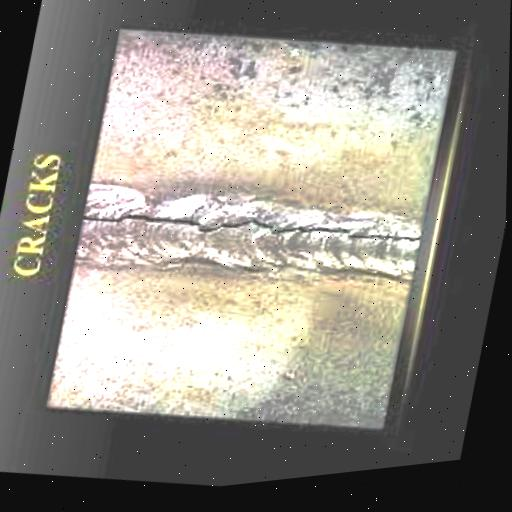crack: (77, 157, 423, 297)
